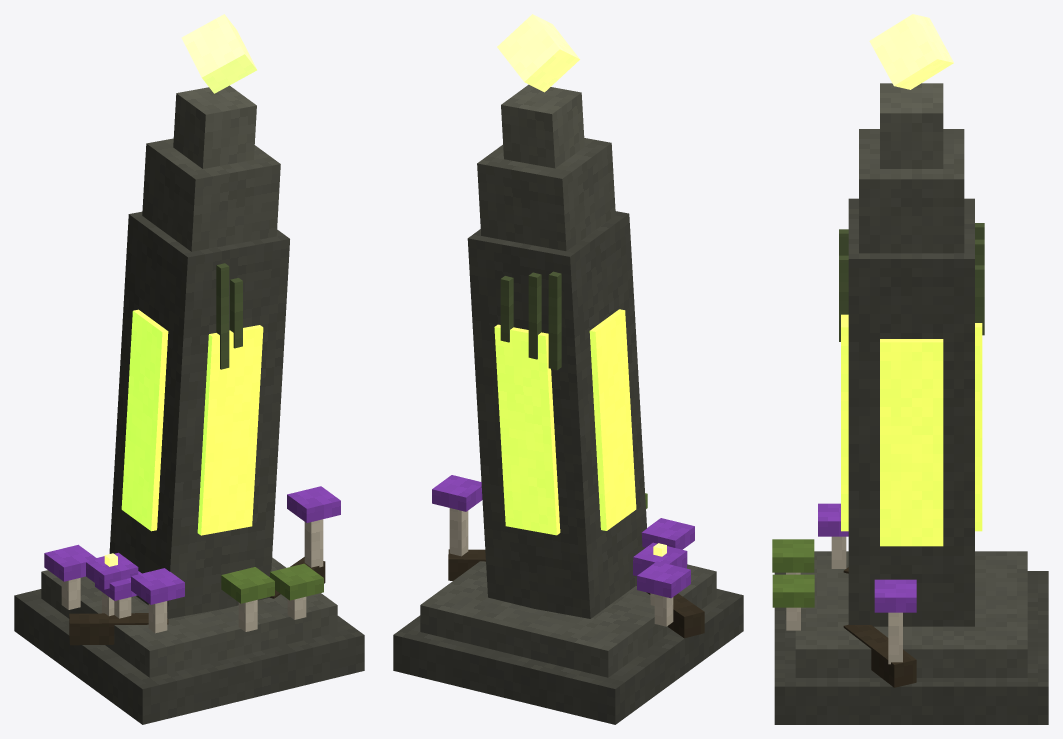
Rendered from obelisk_marais.glb.
3 views of the same model, side by side, from view 1: azimuth 30°, elevation 25°; view 2: azimuth 150°, elevation 25°; view 3: azimuth 270°, elevation 25° (orthographic). The views are drawn at different scales.
Visible parts, largest first — view 1: Obelisk; view 2: Obelisk; view 3: Obelisk.
Part boxes in pixels (x1,y1,x2,y2): Obelisk: [14, 14, 364, 724]; Obelisk: [393, 14, 743, 724]; Obelisk: [772, 14, 1048, 724].
Size of the model in its own units: 1.53 by 3.51 by 1.31.
Materials: 13 (13 with a texture image).
